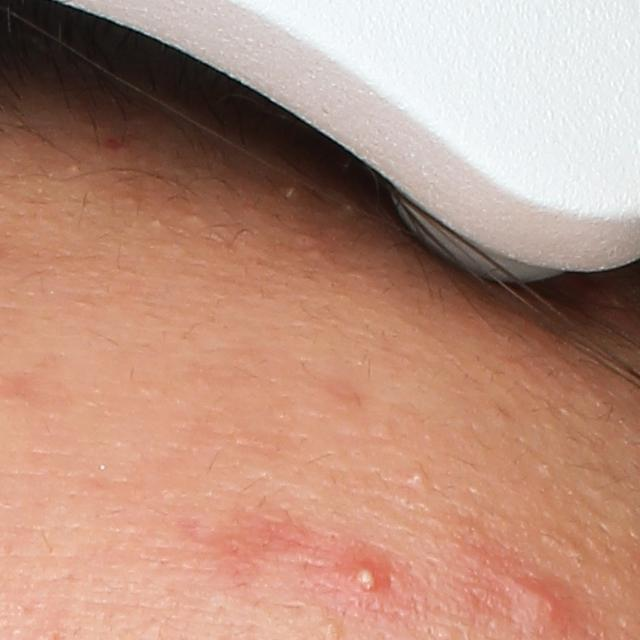comedo: (406, 468, 431, 490), (323, 616, 345, 638)
pustule: (352, 560, 381, 596)
